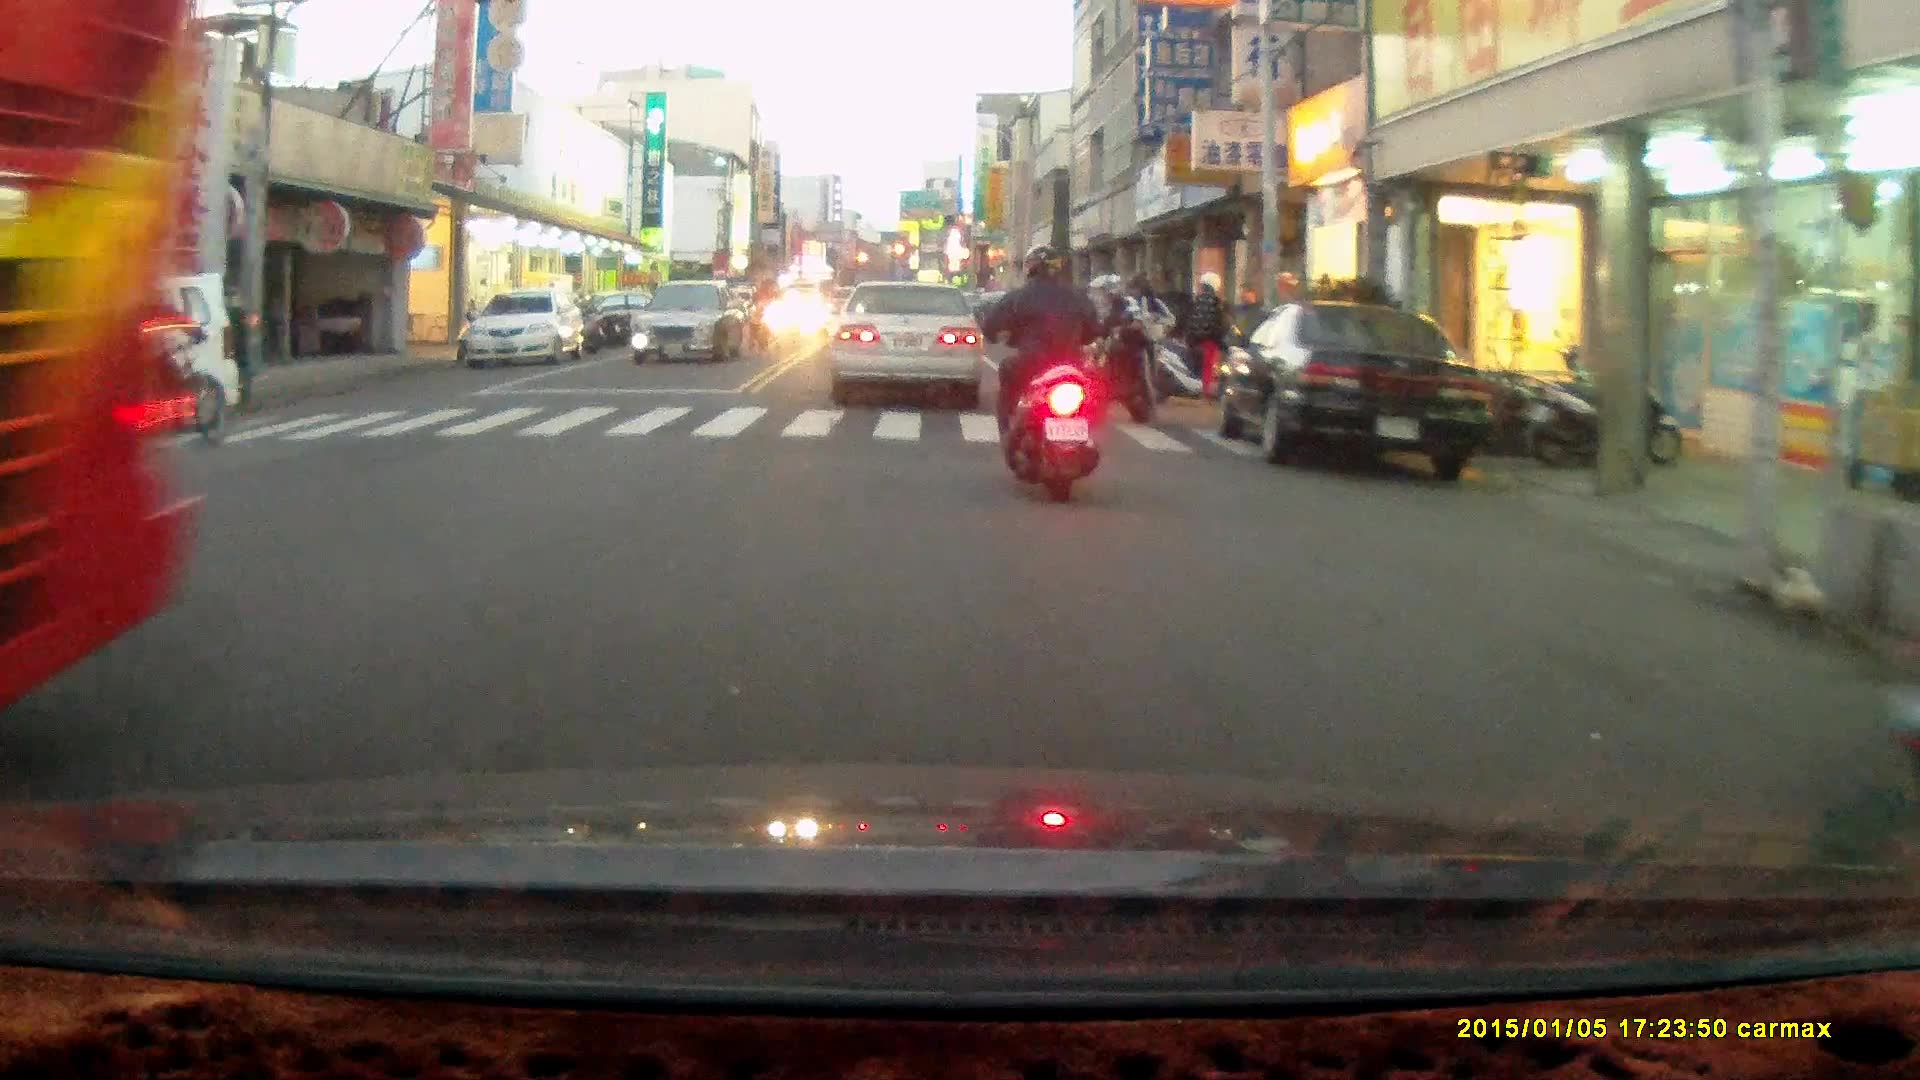pedestrian: (1191, 267, 1232, 407)
rider: (981, 239, 1105, 502), (91, 271, 227, 446), (1067, 267, 1177, 423), (744, 274, 789, 357)
vehicle: (1, 16, 195, 707), (1215, 302, 1501, 475), (48, 283, 238, 449), (839, 279, 1003, 408), (462, 291, 584, 369), (638, 279, 747, 362)
